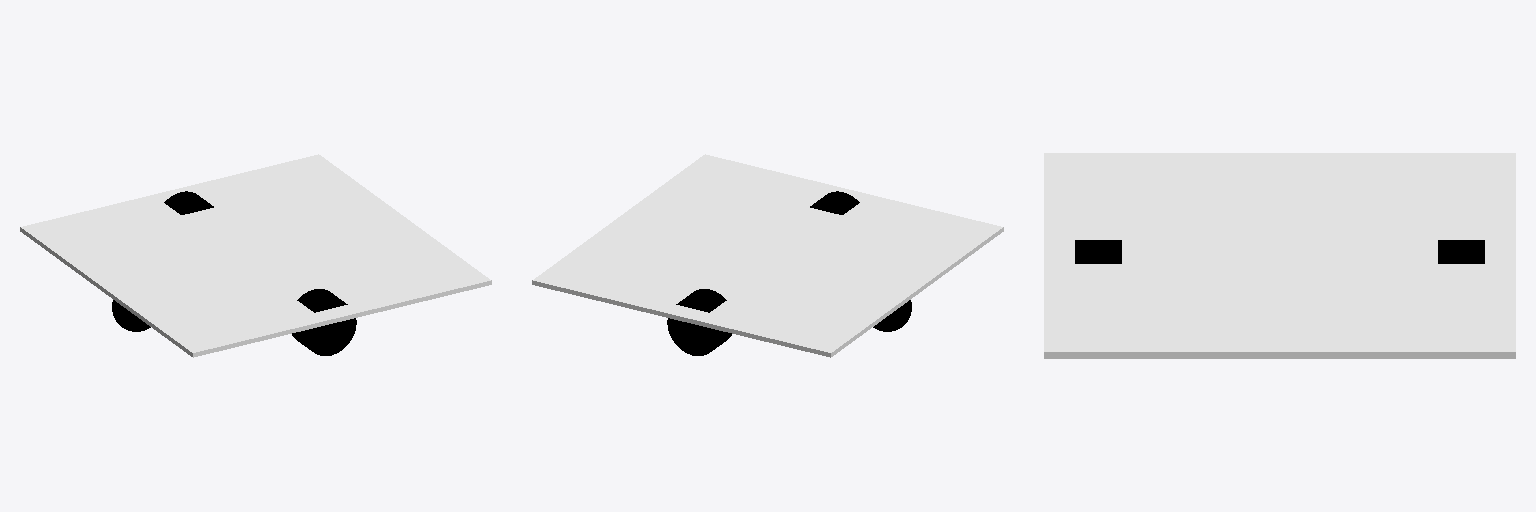
The robot description file, URDF, robot "RoboMaid":
<?xml version="1.0"?>
<robot name="RoboMaid" xmlns:xacro="http://ros.org/wiki/xacro">
  <material name="white">
    <color rgba="1 1 1 1"/>
  </material>

  <material name="black">
    <color rgba="0 0 0 1"/>
  </material>

	<!-- Robot-model-->

  <link name="base_link" >
    <visual>
      <geometry>
        <box size="0.35 0.35 0.005"/>
      </geometry>
	<material name="white"/>
    </visual>
    <collision>
      <geometry>
        <box size="0.35 0.35 0.005"/>
      </geometry>
    </collision>
     <inertial>
	<mass value="2"/>
	<inertia ixx="0.0204" ixy="0.0" ixz="0.0" iyy="0.0408" iyz="0.0" izz="0.0204"/>
     </inertial>
  </link>

  <link name="right_wheel_link">
    <visual>
      <geometry>
        <cylinder length="0.035" radius="0.03"/>
      </geometry>
      <origin rpy="1.57075 0 0" xyz="0 0 0"/>
	<material name="black"/>
    </visual>
    <collision>
	<geometry>
        <cylinder length="0.035" radius="0.03"/>
      </geometry>
      <origin rpy="1.57075 0 0" xyz="0 0 0"/>
    </collision>
     <inertial>
	<mass value="0.2"/>
	<inertia ixx="0.0000542" ixy="0.0" ixz="0.0" iyy="0.0000542" iyz="0.0" izz="0.00009"/>
     </inertial>
    
  </link>
  <link name="left_wheel_link">
    <visual>
      <geometry>
        <cylinder length="0.035" radius="0.03"/>
      </geometry>
      <origin rpy="1.57075 0 0" xyz="0 0 0"/>
	<material name="black"/>
    </visual>
      <collision>
       <geometry>
        <cylinder length="0.035" radius="0.03"/>
      </geometry>
      <origin rpy="1.57075 0 0" xyz="0 0 0"/>
    </collision>
     <inertial>
	<mass value="0.2"/>
	<inertia ixx="0.0000542" ixy="0.0" ixz="0.0" iyy="0.0000542" iyz="0.0" izz="0.00009"/>
     </inertial>
  </link>

  <link name="front_roller">
    <visual>
      <geometry>
        <sphere  radius="0.025"/>
      </geometry>
      <origin  xyz="0 0 -0.025"/>
	<material name="black"/>
    </visual>
     <collision>
	<geometry>
        <sphere  radius="0.025"/>
      </geometry>
      <origin  xyz="0 0 -0.025"/>
     </collision>
     <inertial>
	<mass value="0.6"/> 
	<inertia ixx="0.00003" ixy="0.0" ixz="0.0" iyy="0.00003" iyz="0.0" izz="0.00003"/>
     </inertial>
     
  </link>

  <!--<link name="back_roller">
    <visual>
      <geometry>
        <sphere  radius="0.025"/>
      </geometry>
      <origin  xyz="0 0 -0.025"/>
	<material name="black"/>
    </visual>
     <collision>
      <geometry>
        <sphere  radius="0.025"/>
      </geometry>
      <origin  xyz="0 0 -0.025"/>
     </collision>
      <inertial>
	<mass value="0.12"/>
	<inertia ixx="0.00003" ixy="0.0" ixz="0.0" iyy="0.00003" iyz="0.0" izz="0.00003"/>
     </inertial>
  </link> -->
<link
    name="base_laser">
    <inertial>
      <origin
        xyz="-0.00029774 0.0066667 0.00513047"
        rpy="0 0 0" />
      <mass
        value="0.15717" />
      <inertia
        ixx="6.7885E-05"
        ixy="-1.3987E-07"
        ixz="-8.1554E-07"
        iyy="0.00013173"
        iyz="-9.0932E-08"
        izz="7.1972E-05" />
    </inertial>
    <visual>
      <origin
        xyz="0 0 0.005"
        rpy="0 0 0" />
      <geometry>
        <mesh
          filename="package://RoboMaid_sim/meshes/ydlidar.dae" />
      </geometry>
      <material
        name="">
        <color
          rgba="0 0 1 0.5" />
      </material>
    </visual>
    <collision>
      <origin
        xyz="0 0 0"
        rpy="0 0 0" />
      <geometry>
        <mesh
filename="package://RoboMaid_sim/meshes/ydlidar.dae" />
      </geometry>
    </collision>
  </link>
<link
    name="laser_frame">
    <inertial>
      <origin
        xyz="-0.00036659 0.00064155 -0.00027052"
        rpy="0 0 0" />
      <mass
        value="0.25482" />
      <inertia
        ixx="8.9194E-05"
        ixy="1.8116E-07"
        ixz="3.6435E-08"
        iyy="0.00018279"
        iyz="2.423E-07"
        izz="0.00011103" />
    </inertial>
    <visual>
      <origin
        xyz="0 0 0"
        rpy="0 0 0" />
      <geometry>
        <mesh
          filename="package://ydlidar_ros/meshes/ydlidar.dae" />
      </geometry>
      <material
        name="">
        <color
          rgba="0.64706 0.61961 0.58824 1" />
      </material>
    </visual>
    <collision>
      <origin
        xyz="0 0 0"
        rpy="0 0 0" />
      <geometry>
        <mesh
          filename="package://ydlidar_ros/meshes/ydlidar.dae" />
      </geometry>
    </collision>
  </link>

  <joint name="base_to_right_wheel" type="continuous">
	<parent link="base_link"/>
	<child link="right_wheel_link"/>
        <axis xyz="0 1 0"/>
	<origin xyz="0 0.135 -0.02"/>
  </joint>

  <joint name="base_to_left_wheel" type="continuous">
	<parent link="base_link"/>
	<child link="left_wheel_link"/>
	<axis xyz="0 1 0"/>
	<origin xyz="0 -0.135 -0.02"/>
  </joint>


  <joint name="base_to_front_roller" type="fixed">
	<parent link="base_link"/>
	<child link="front_roller"/>
	<origin xyz="-0.14 0 0"/>
  </joint>

 <!-- <joint name="base_to_back_roller" type="fixed">
	<parent link="base_link"/>
	<child link="back_roller"/>
	<origin xyz="0.14 0 0"/>
  </joint>   -->

  <joint
    name="laser_joint"
    type="fixed">
    <origin
      xyz="0 0 0.03172"
      rpy="0 0 0" />
    <parent
      link="base_laser" />
    <child
      link="laser_frame" />
    <axis
      xyz="0 0 0" />
  </joint>

  <joint name="base_to_lidar" type="fixed">
	<parent link="base_link"/>
	<child link="base_laser"/>
	<axis xyz="0 0 1"/>
	<origin xyz="0 0 0"/>
  </joint>
</robot>

--- What the picture shows (computed from the rendered views, not written in the file) ---
The picture shows the robot from 3 angles, left to right: view 1: azimuth 30°, elevation 25°; view 2: azimuth 150°, elevation 25°; view 3: azimuth 270°, elevation 25°; orthographic projection.
Robot: RoboMaid — 6 links, 5 joints (2 continuous, 3 fixed); root link base_link; default pose: every joint at zero.
Links seen in each view (by area): view 1: base_link, left_wheel_link, right_wheel_link, front_roller; view 2: base_link, right_wheel_link, left_wheel_link, front_roller; view 3: base_link, right_wheel_link, left_wheel_link.
Link boxes in pixels (x1,y1,x2,y2): base_link: (20, 154, 491, 357); left_wheel_link: (292, 289, 356, 355); right_wheel_link: (164, 191, 213, 214); front_roller: (112, 300, 150, 331); base_link: (532, 154, 1003, 357); right_wheel_link: (667, 289, 731, 355); left_wheel_link: (810, 191, 859, 214); front_roller: (873, 300, 911, 331); base_link: (1044, 153, 1515, 358); right_wheel_link: (1438, 240, 1484, 263); left_wheel_link: (1075, 240, 1121, 263).
Bounding box of the posed robot: 0.35 × 0.35 × 0.06 m (x, y, z).
0 mesh visuals loaded from 2 distinct referenced files (none loaded); not drawn: 2 (reference not matched to a file when rendering).